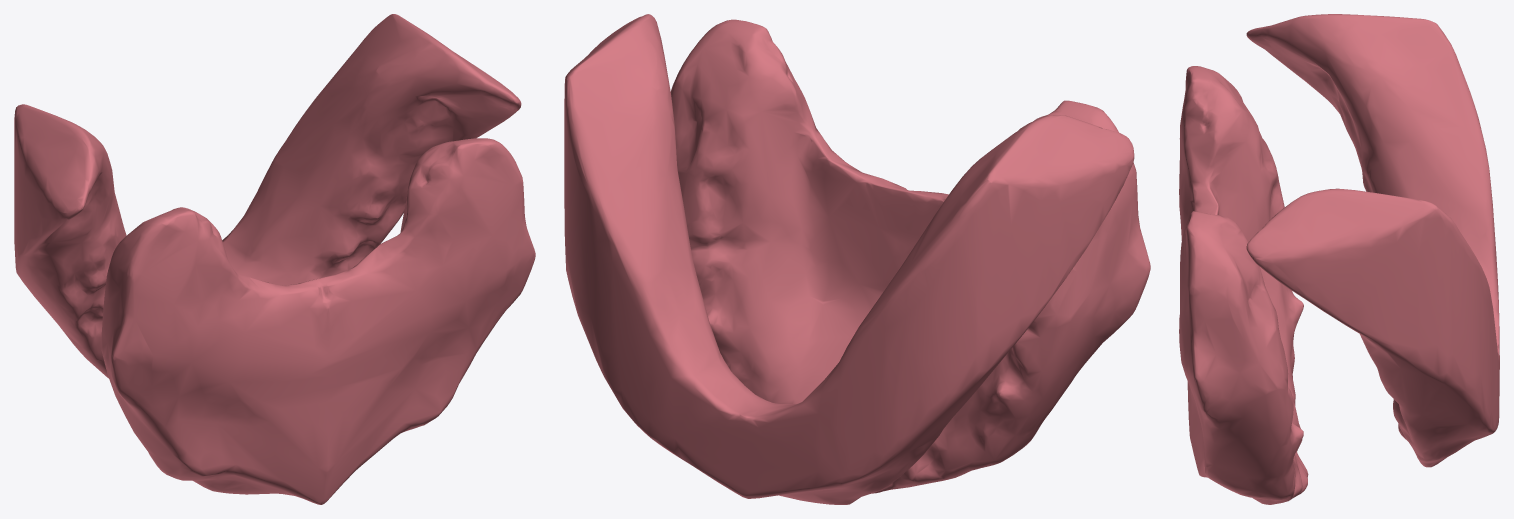
3 views of the same model, side by side, from view 1: azimuth 30°, elevation 25°; view 2: azimuth 150°, elevation 25°; view 3: azimuth 270°, elevation 25° (orthographic). The views are drawn at different scales.
Parts seen in each view (by area): view 1: 牙龈; view 2: 牙龈; view 3: 牙龈.
Boxes of the visible parts, left/top/right/bottom form: 牙龈: left=14, top=14, right=535, bottom=504; 牙龈: left=564, top=14, right=1150, bottom=504; 牙龈: left=1179, top=14, right=1499, bottom=504.
Size of the model in its own units: 0.1083 by 0.0868 by 0.0653.
